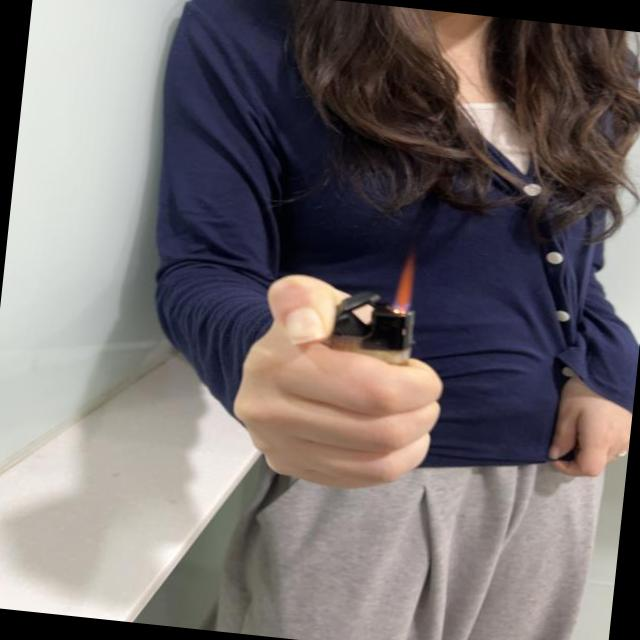Fire: (395, 255, 419, 312)
